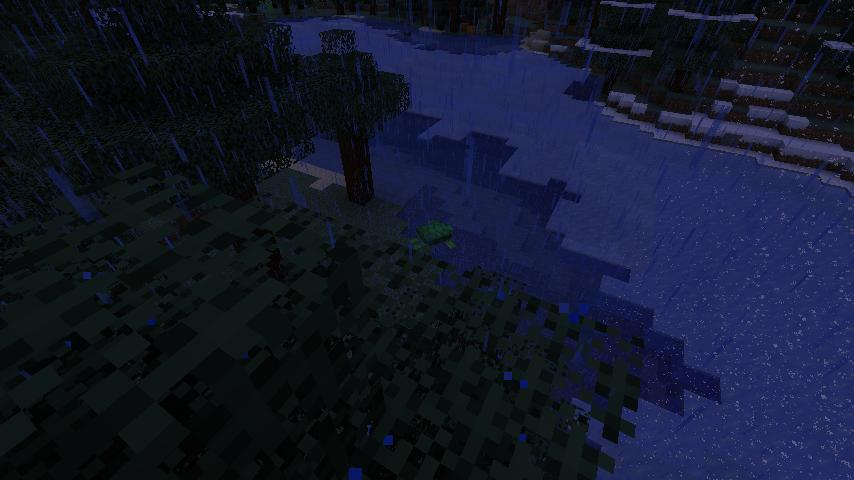turtle: (408, 217, 458, 253)
